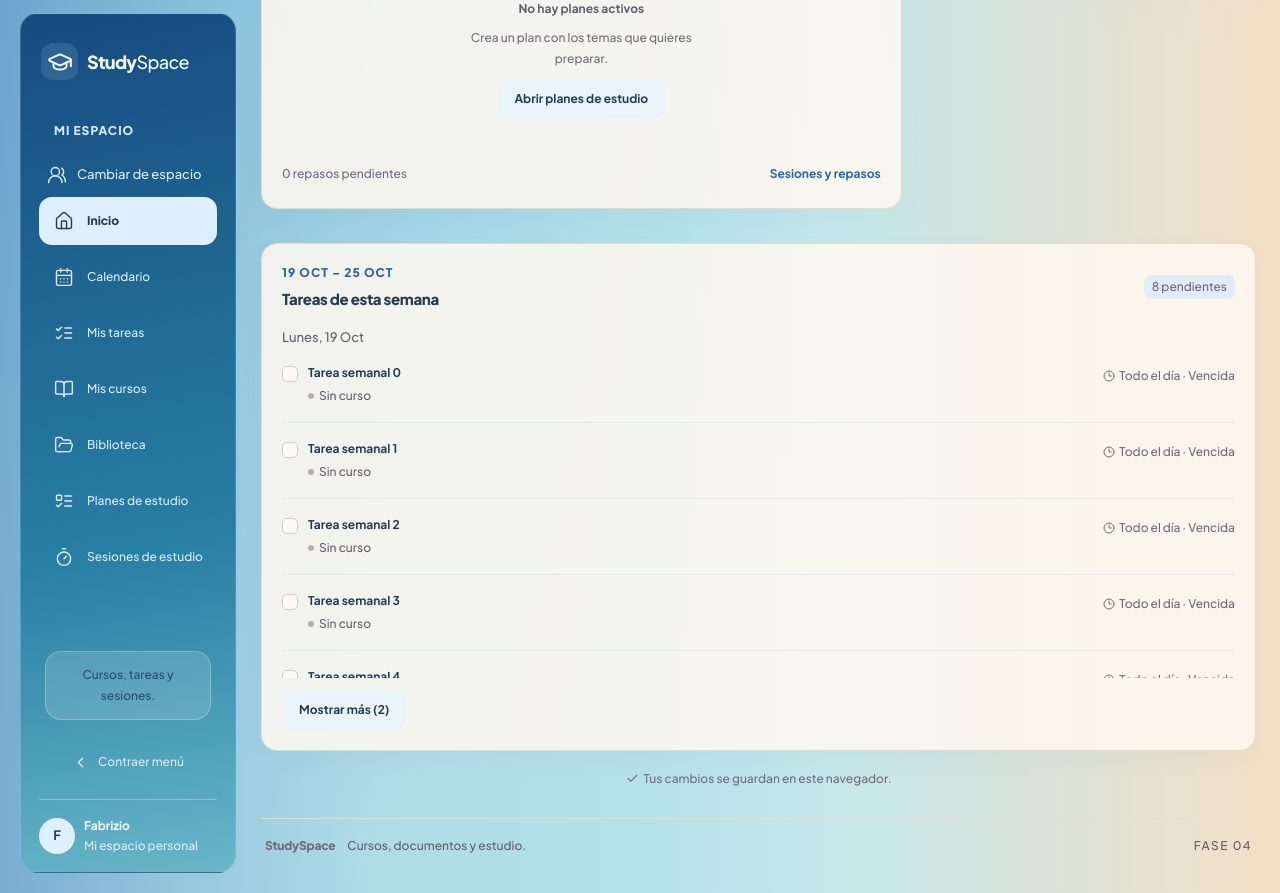
Test: consulta más resultados semanales sin extender indefinidamente la tarjeta
(page scrolled)
Check: the text "Tarea semanal 7" is not shown
Click the button "Mostrar más (2)".
click(344, 710)  # box [282,690,406,730]
(page scrolled)
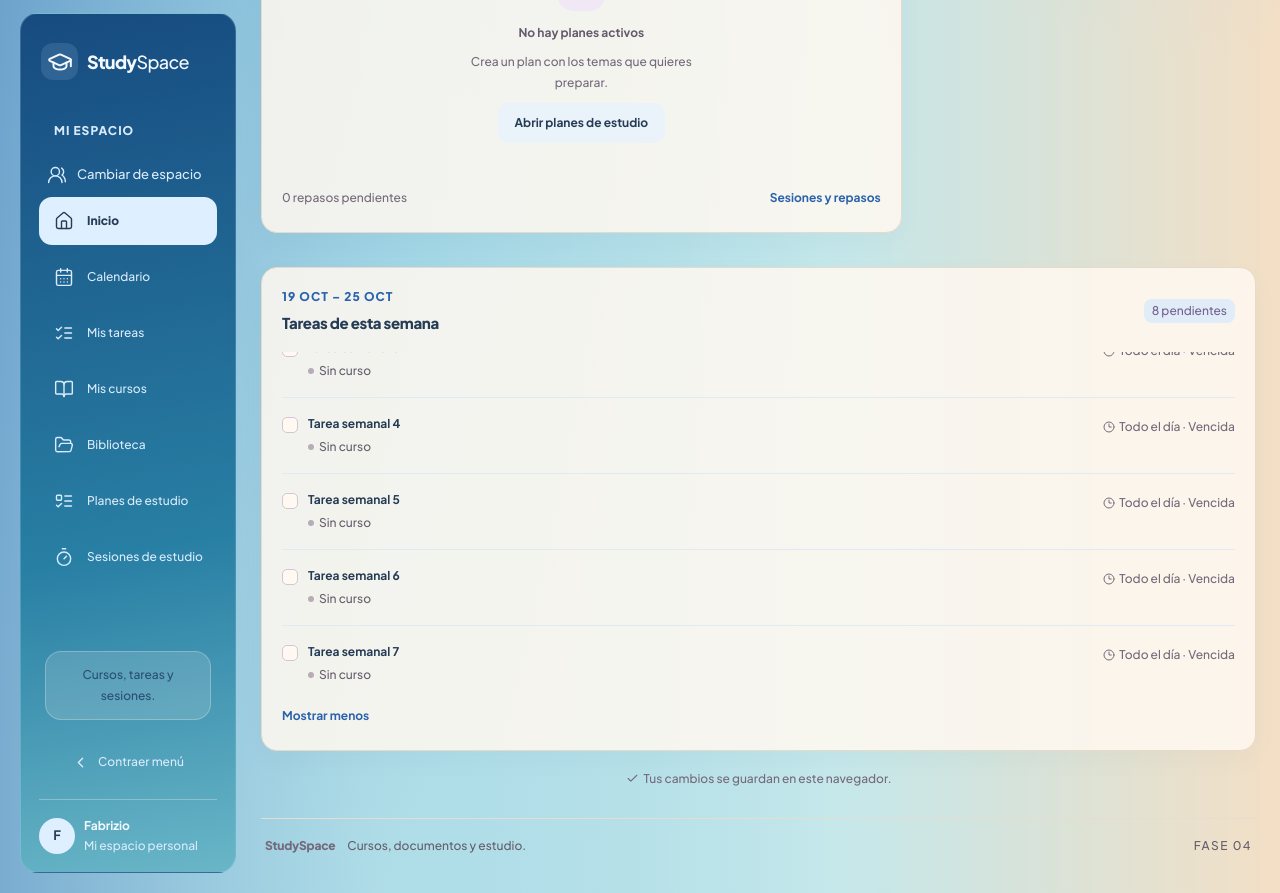
Check: the button "Tarea semanal 7" is shown, box [308,643,399,661]
